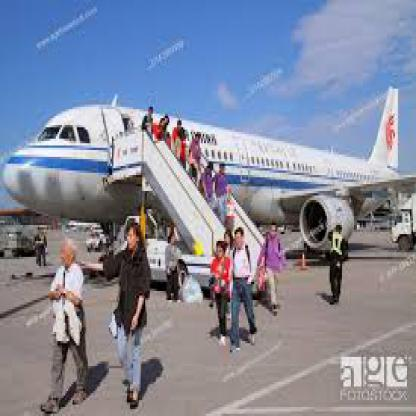boarding stairs: (109, 130, 280, 302)
